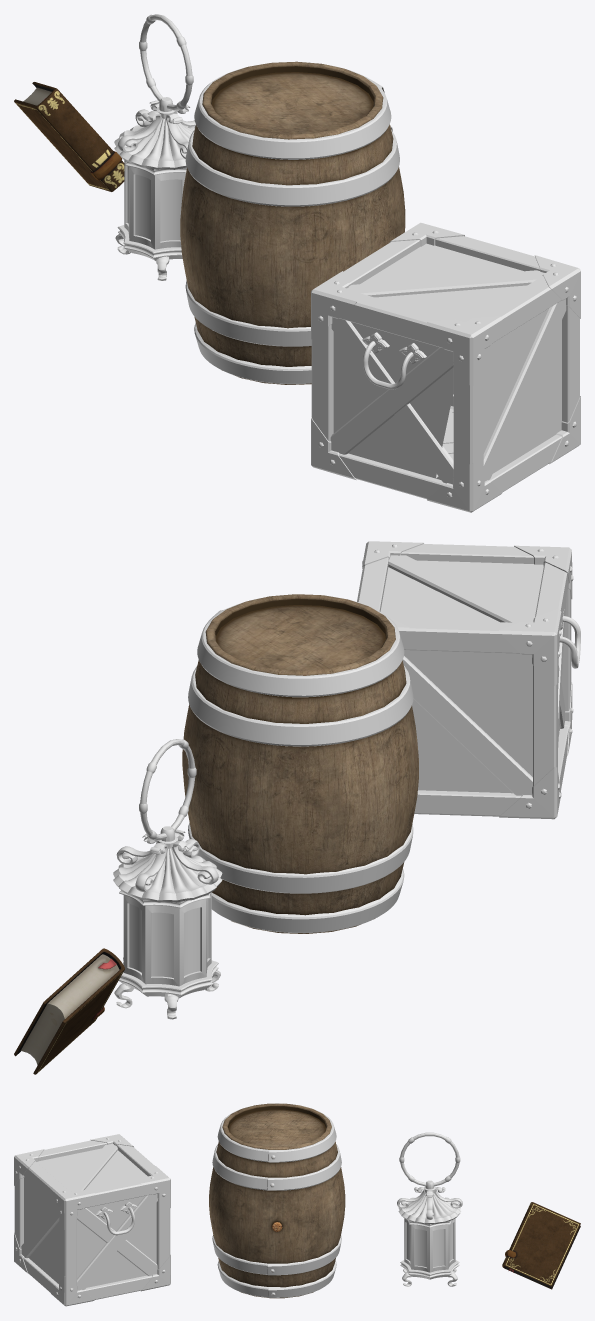
The model's file is PixelLifeAssets.fbx.
The picture shows the model from 3 angles, top to bottom: view 1: azimuth 30°, elevation 25°; view 2: azimuth 150°, elevation 25°; view 3: azimuth 270°, elevation 25°; orthographic projection. The views are drawn at different scales.
Visible parts, largest first — view 1: Wooden Box, Barrel, Cube.001, Book; view 2: Barrel, Wooden Box, Cube.001, Book; view 3: Barrel, Wooden Box, Cube.001, Book.
Boxes of the visible parts, x1,y1,x2,y2 form: Wooden Box: [311, 222, 580, 512]; Barrel: [180, 61, 405, 384]; Cube.001: [114, 14, 195, 280]; Book: [14, 82, 124, 191]; Barrel: [182, 594, 418, 933]; Wooden Box: [357, 541, 580, 819]; Cube.001: [113, 739, 222, 1019]; Book: [14, 948, 124, 1074]; Barrel: [209, 1103, 345, 1298]; Wooden Box: [14, 1134, 170, 1306]; Cube.001: [397, 1132, 462, 1286]; Book: [502, 1202, 580, 1289].
Bounding box in the file's own units: 107 × 117 × 386.
